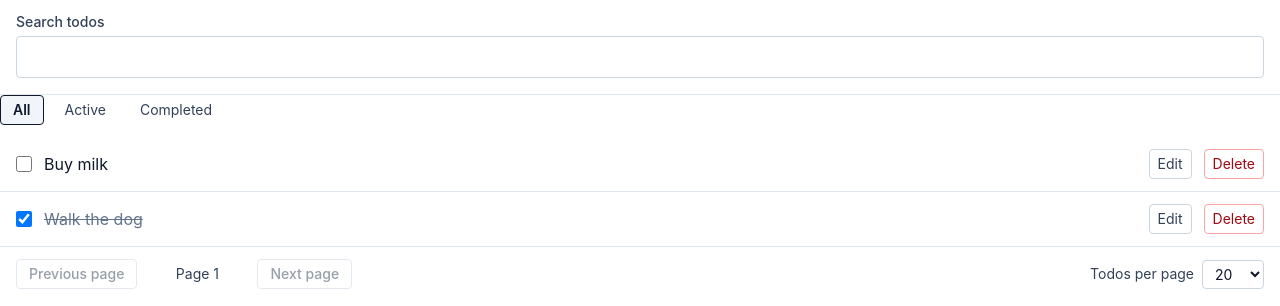
TodoFlows status filter › shows no rows from the previous filter while the new filter is loading
expect the text "Buy milk" is shown: met, box [44,154,108,174]
Click the link "Completed" at (176, 110), box [140,101,212,118]
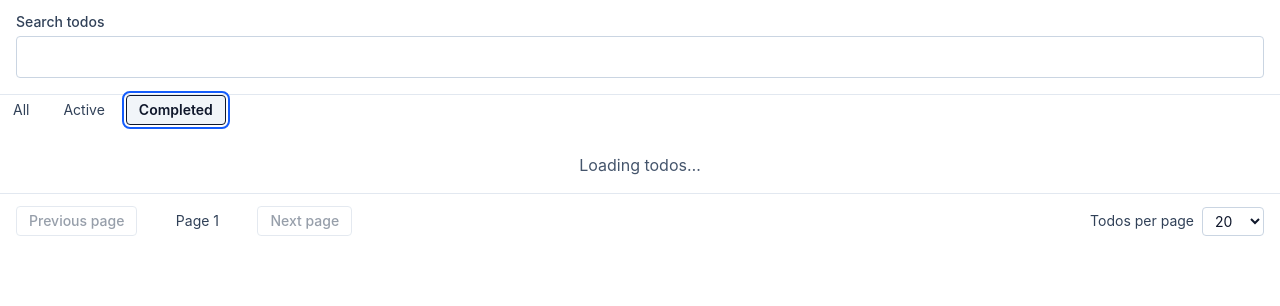
expect the text "Buy milk" is gone: met
expect the text "Walk the dog" is gone: met
expect the message shows "Loading todos": met, box [579,155,701,175]
